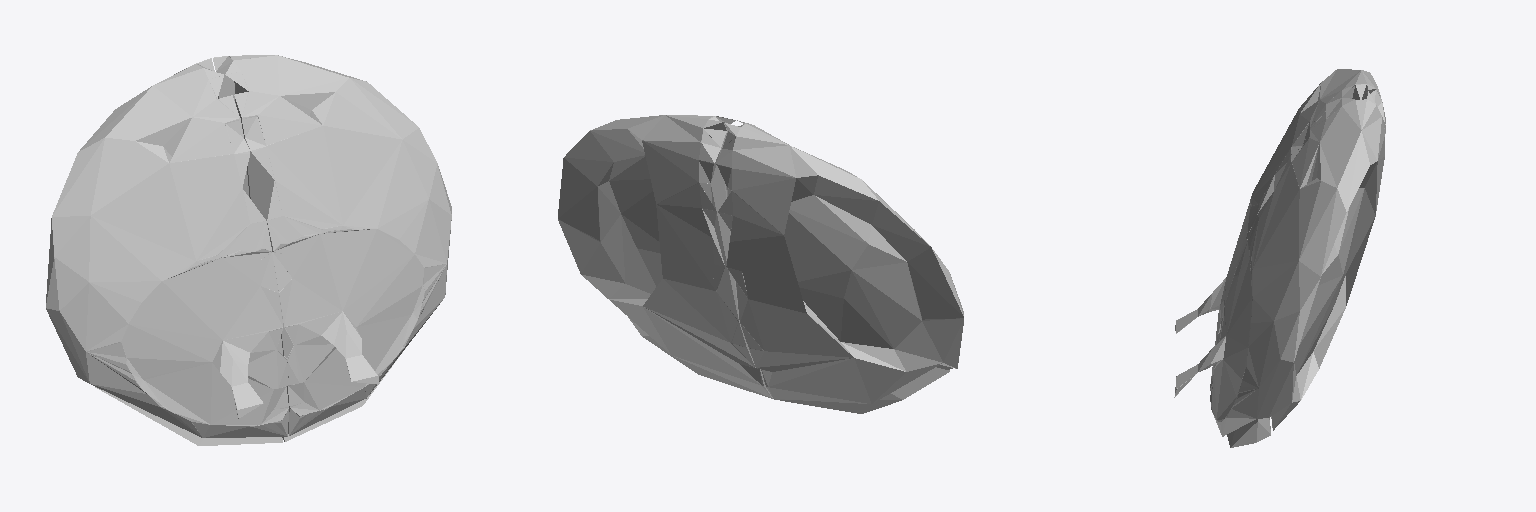
Rendered from body.obj.
3 views of the same model, side by side, from view 1: azimuth 30°, elevation 25°; view 2: azimuth 150°, elevation 25°; view 3: azimuth 270°, elevation 25° (orthographic).
Parts seen in each view (by area): view 1: Reducción_de_Polígonos.7; view 2: Reducción_de_Polígonos.7; view 3: Reducción_de_Polígonos.7.
Part boxes in pixels (x1,y1,x2,y2): Reducción_de_Polígonos.7: (46,55,451,445); Reducción_de_Polígonos.7: (558,115,963,413); Reducción_de_Polígonos.7: (1174,69,1385,447).
Bounding box in the file's own units: 54.78 × 42.69 × 24.63.